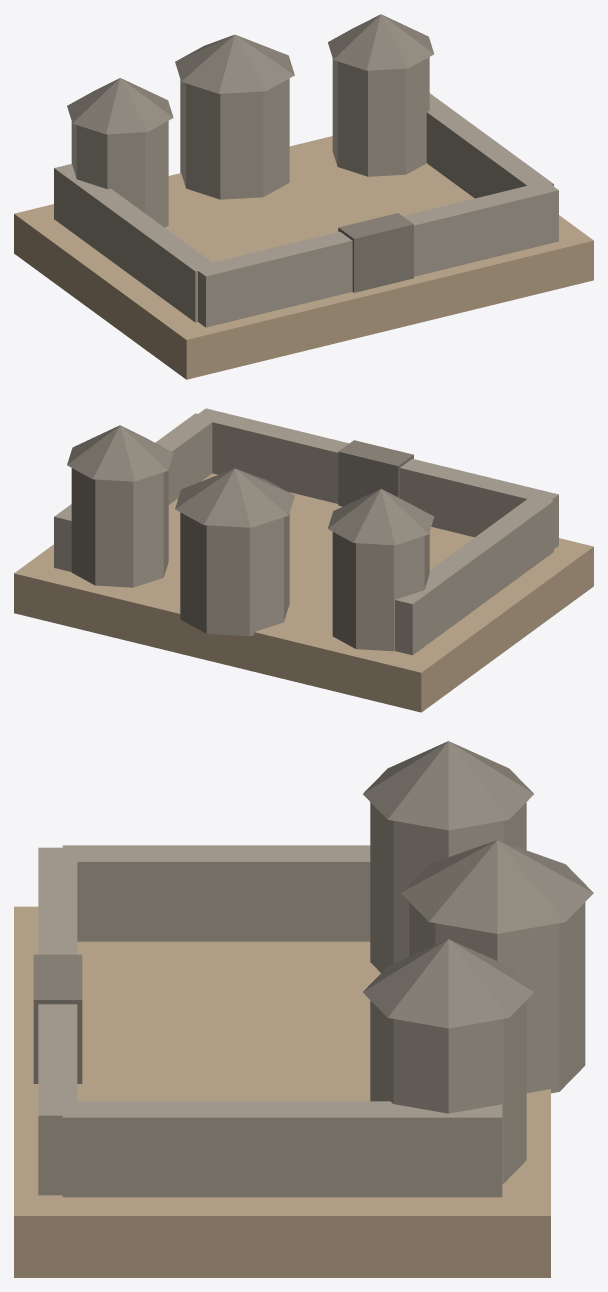
The model's file is chanca_fortress_lod1.glb.
3 renders of one model, top to bottom at view 1: azimuth 30°, elevation 25°; view 2: azimuth 150°, elevation 25°; view 3: azimuth 270°, elevation 25°, orthographic. The views are drawn at different scales.
Visible parts, largest first — view 1: chanca_fortress; view 2: chanca_fortress; view 3: chanca_fortress.
Boxes of the visible parts, box(x1,y1,x2,y2) form: chanca_fortress: box(14, 14, 593, 379); chanca_fortress: box(14, 408, 593, 712); chanca_fortress: box(14, 741, 593, 1277).
Size of the model in its own units: 15 by 6.4 by 11.88.
